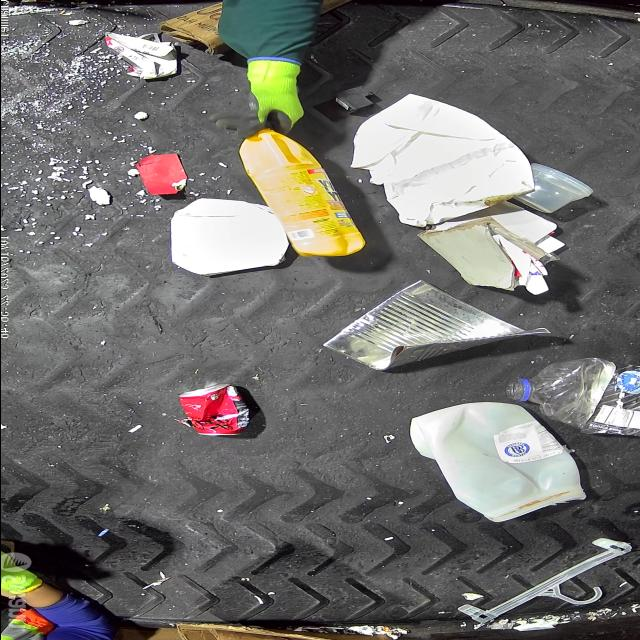can: (176, 384, 248, 436)
milk_jug: (408, 401, 586, 522)
non_white_jug: (238, 126, 367, 260)
plastic_bottle: (505, 358, 640, 437)
